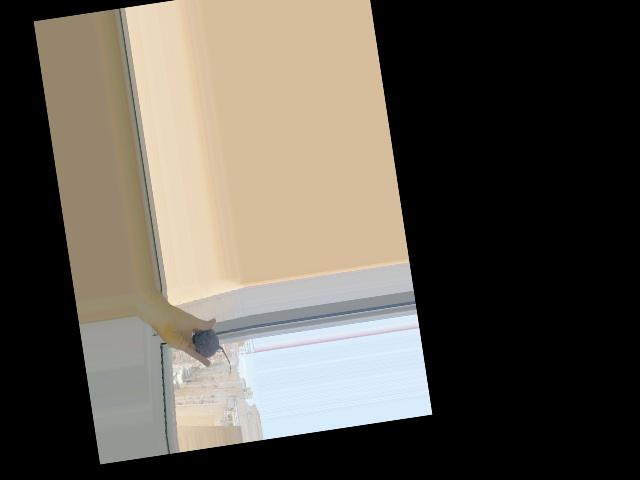beet: (191, 327, 232, 381)
